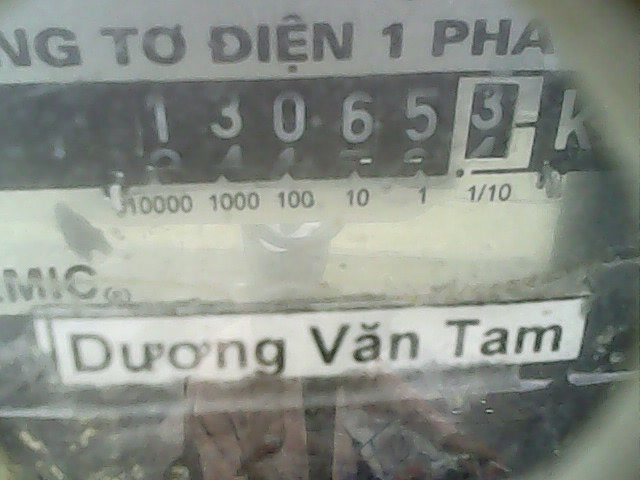phy_plate: (121, 69, 555, 187)
